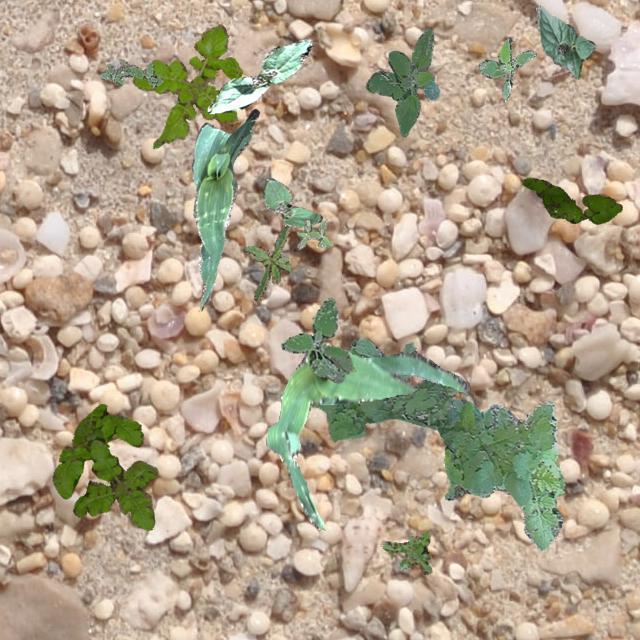crop: (264, 348, 468, 528), (190, 108, 258, 308), (207, 36, 310, 112), (534, 5, 594, 78), (262, 178, 322, 225)
weed: (314, 338, 564, 550), (132, 24, 242, 148), (52, 404, 156, 530), (364, 28, 438, 136), (280, 296, 354, 382), (522, 176, 620, 224), (476, 36, 536, 100), (242, 224, 290, 300), (382, 530, 430, 574), (100, 58, 162, 86), (296, 218, 332, 248)
